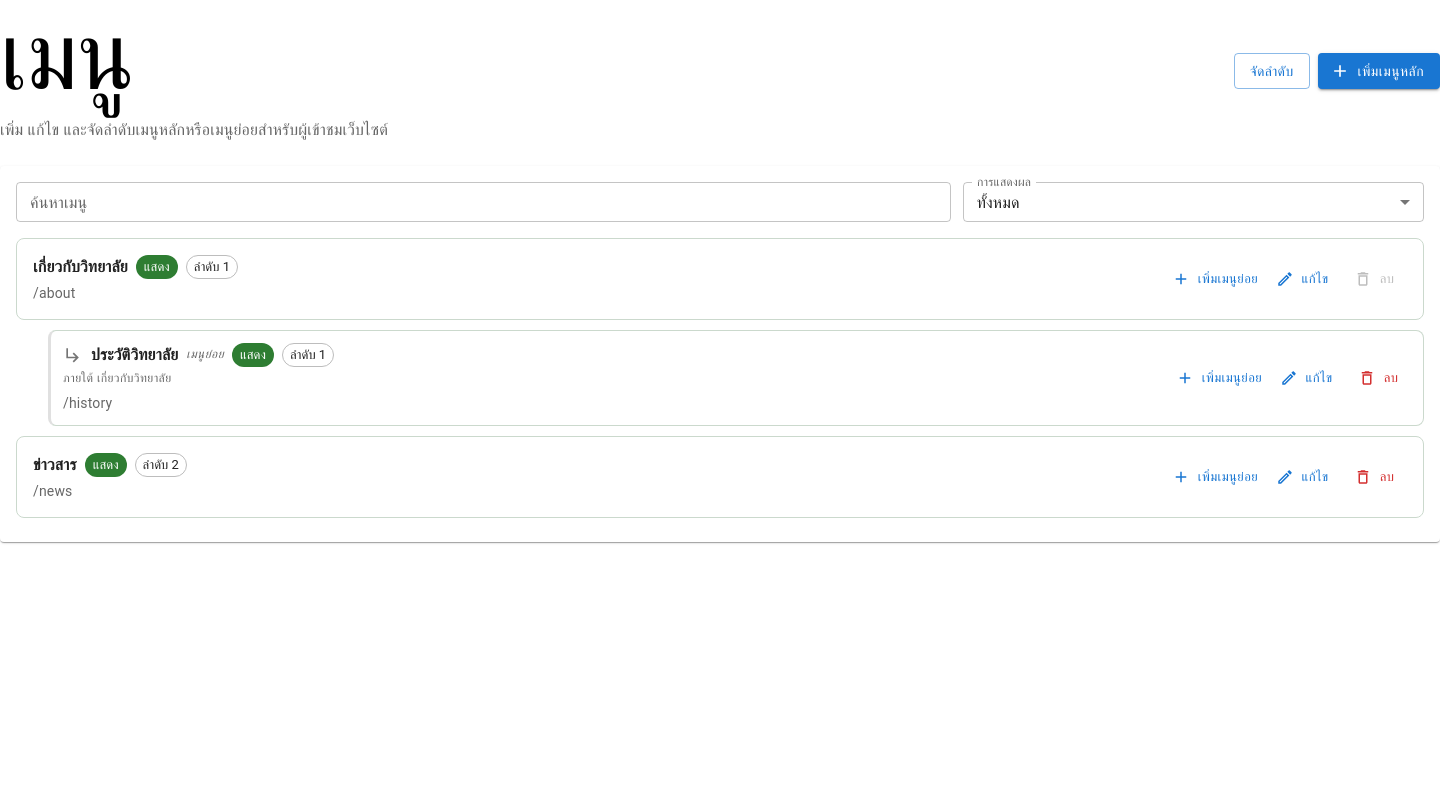
MenuPage WordPress-style hierarchy UX › creates a submenu from the parent action without asking the user to type an internal id
Expected: the text "เกี่ยวกับวิทยาลัย" is shown, [33,255,128,279]
Click the button "เพิ่มเมนูย่อย" in the row of "/about": coordinates (1216, 279) [1169,264,1263,294]
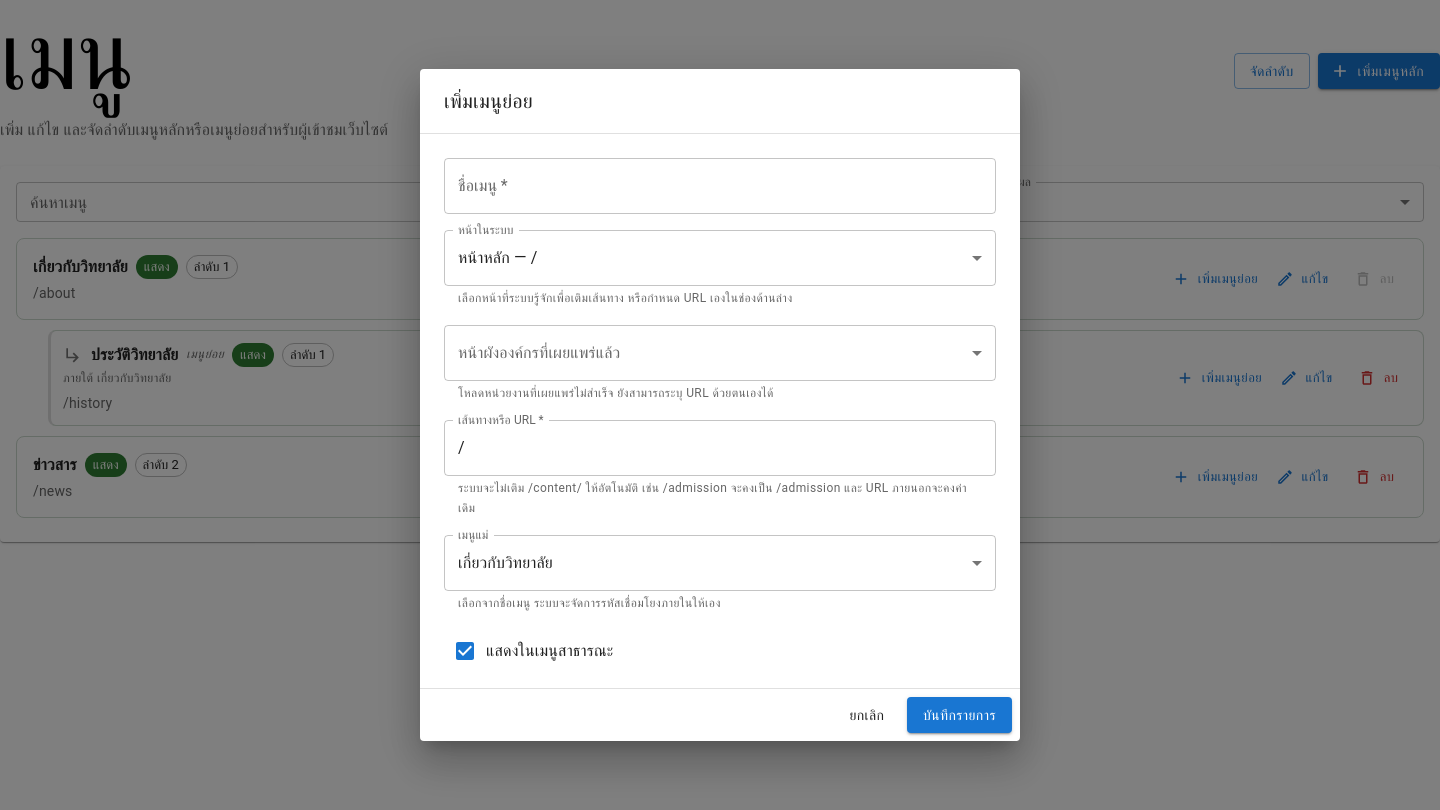
Now the heading "เพิ่มเมนูย่อย" is shown, box [444,89,533,113]
Now the dropdown named "เมนูแม่" is shown, box [458,553,553,572]
Now the text "เลือกจากชื่อเมนู ระบบจะจัดการรหัสเชื่อมโยงภายในให้เอง" is shown, box [458,596,721,610]
